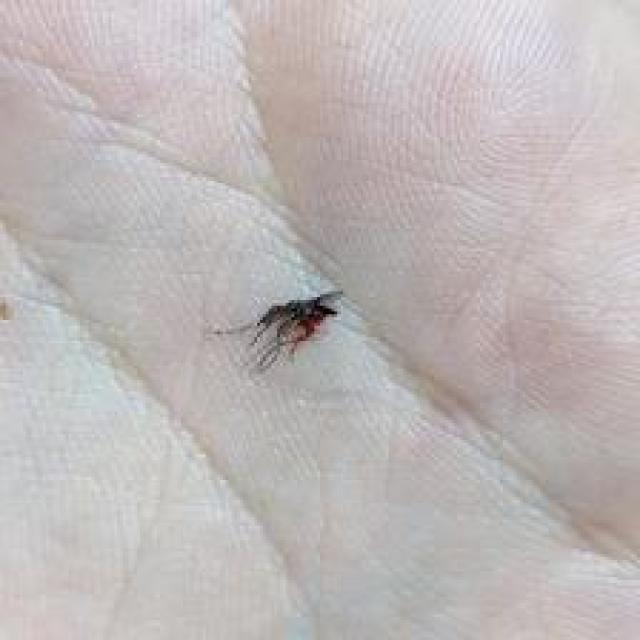Aedes albopictus: (213, 287, 344, 373)
